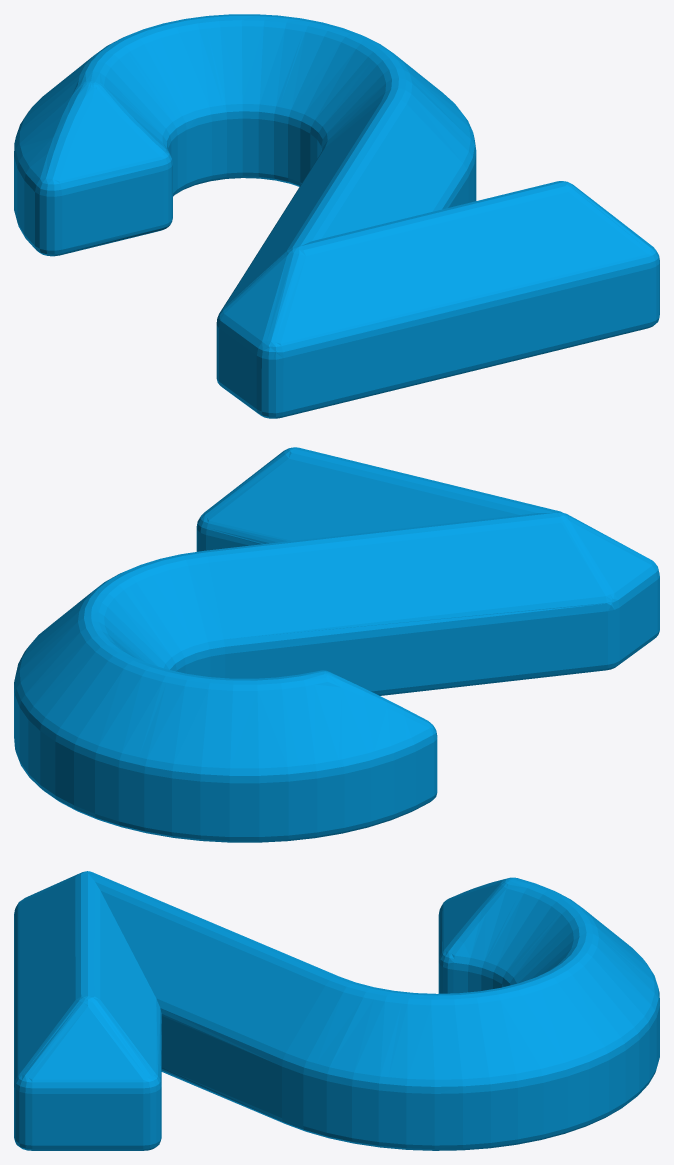
Rendered from numberTwo.glb.
The picture shows the model from 3 angles, top to bottom: view 1: azimuth 30°, elevation 25°; view 2: azimuth 150°, elevation 25°; view 3: azimuth 270°, elevation 25°; orthographic projection. The views are drawn at different scales.
Parts seen in each view (by area): view 1: 3MFMeshParent_3; view 2: 3MFMeshParent_3; view 3: 3MFMeshParent_3.
Part boxes in pixels (bbox=[...]): 3MFMeshParent_3: bbox=[14, 14, 659, 418]; 3MFMeshParent_3: bbox=[14, 447, 659, 842]; 3MFMeshParent_3: bbox=[14, 871, 659, 1150].
Bounding box in the file's own units: 16.8 × 5.32 × 24.49.
